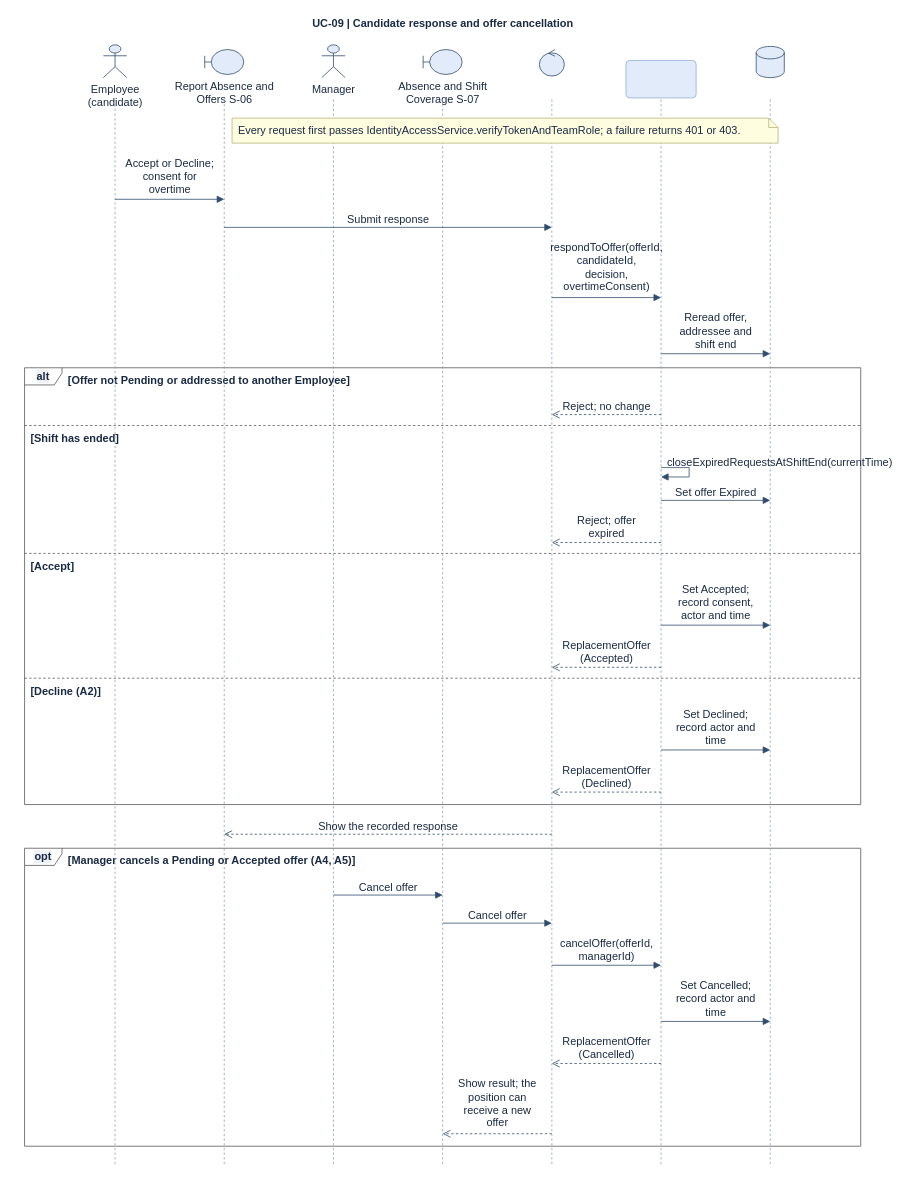
Image size: 906x1181. Some labels were removed from this diagram. Here are the shapes that lost their labels. From the top down, the centre of each, then its label:
point (551, 62): Express API
point (660, 79): :Coverage Service
point (769, 62): PostgreSQL
